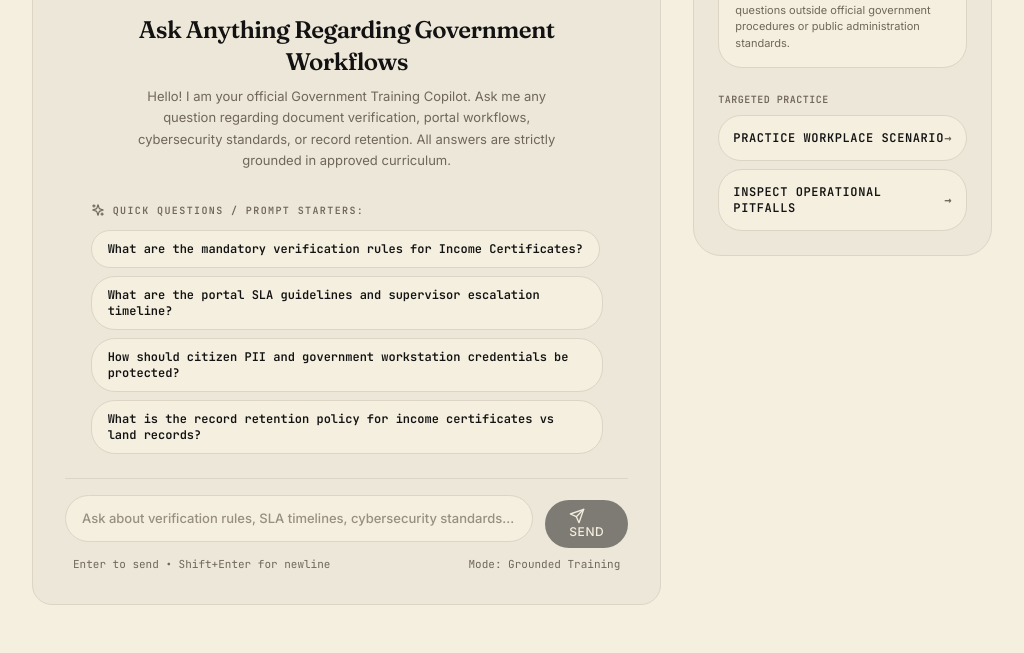
Test case: TutorChatPage & Dual-Mode Copilot Interface › loads available modules and sends a grounded tutor question when grounded mode is active
(page scrolled)
Replace the text in the text box with placeholder "Ask about verification rules" with "How do I verify a certificate?": (299, 518) [65,495,533,542]
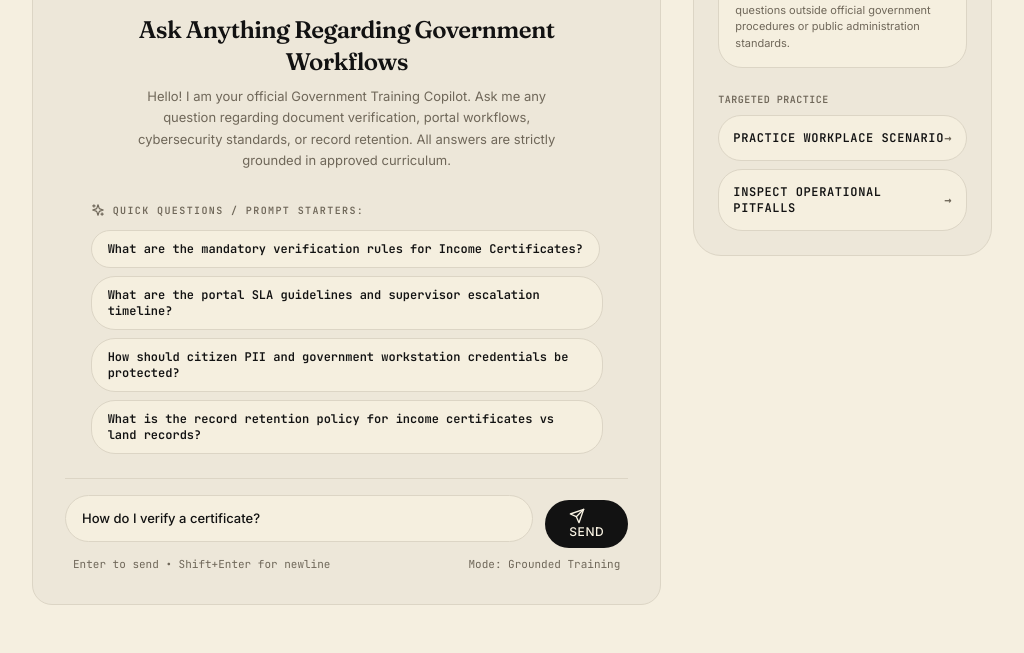
Click the button "Send": (587, 524) [545,500,628,548]
(page scrolled)
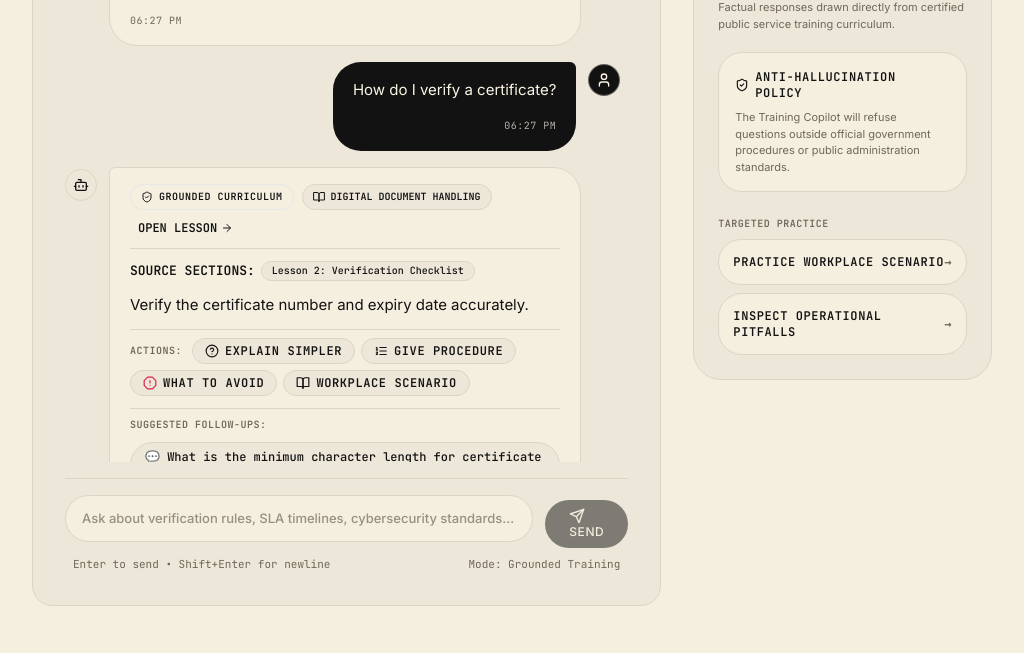
Expected: the text "Verify the certificate number and expiry date accurately." is shown, [130,293,560,317]
Expected: the text "Grounded Curriculum" is shown, [159,189,282,205]
Expected: the text "Lesson 2: Verification Checklist" is shown, [261,261,475,281]
